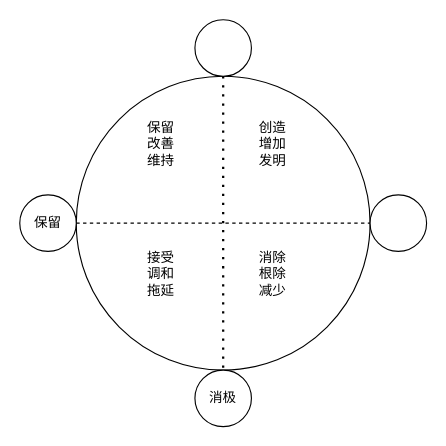
This 446x446 diagram has some shape labels left out. The box of each missing label's shape, as (x1, y1, x2, y2) in pixels:
改变: (369, 194, 427, 251)
积极: (194, 19, 251, 76)
